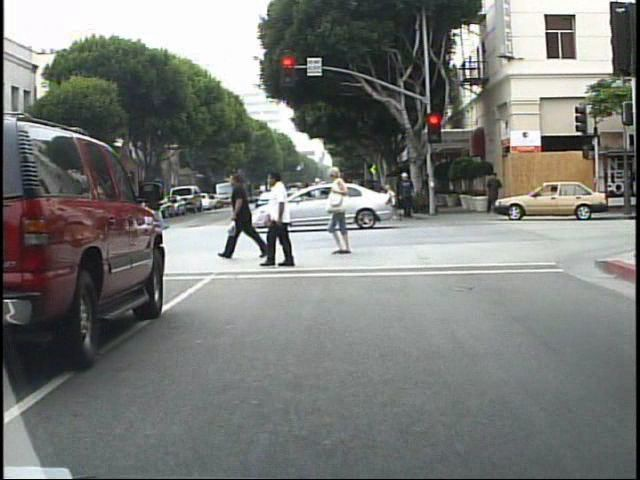person: (256, 174, 309, 272), (226, 168, 269, 264), (328, 164, 364, 257), (394, 164, 416, 225), (312, 174, 333, 223), (299, 179, 319, 225), (354, 176, 373, 223), (151, 180, 168, 232), (118, 181, 136, 228), (4, 192, 22, 238), (485, 170, 503, 215), (6, 198, 23, 236)
